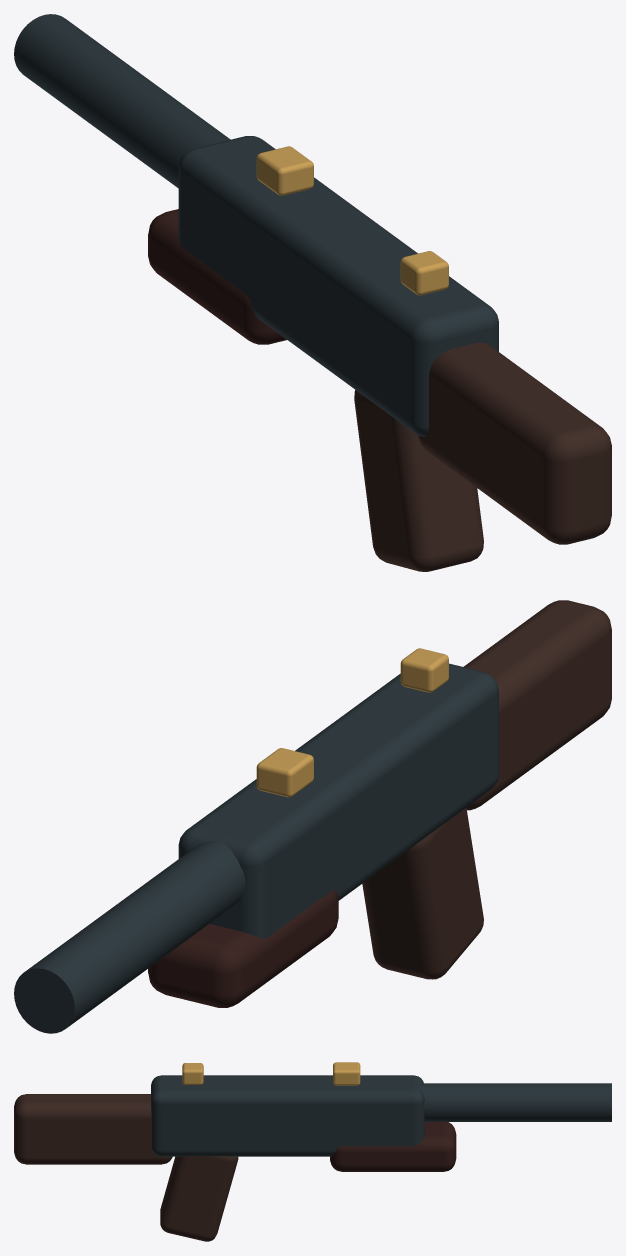
The model's file is shotgun.glb.
3 views of the same model, one above another, from view 1: azimuth 30°, elevation 25°; view 2: azimuth 150°, elevation 25°; view 3: azimuth 270°, elevation 25° (orthographic). The views are drawn at different scales.
Visible parts, largest first — view 1: shotgun; view 2: shotgun; view 3: shotgun.
Boxes of the visible parts, x1,y1,x2,y2 form: shotgun: (14, 14, 611, 571); shotgun: (14, 600, 611, 1033); shotgun: (14, 1062, 611, 1241).
Size of the model in its own units: 0.14 by 0.4425 by 1.42.
